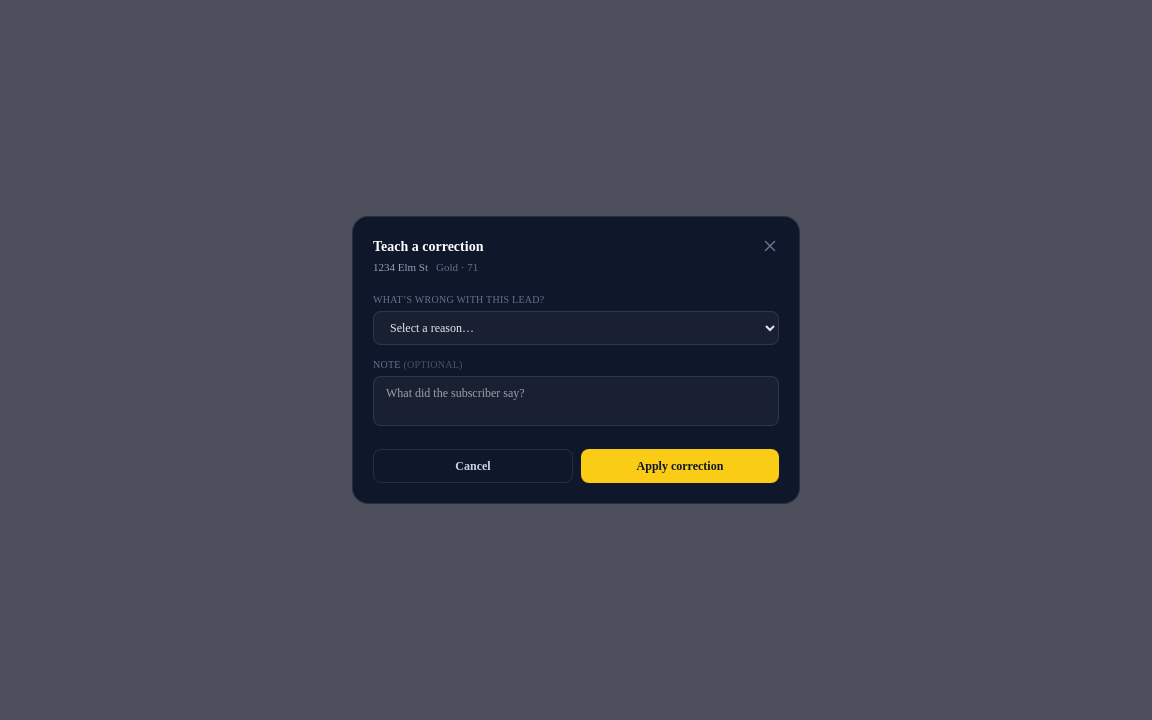
Test: TeachLeadModal › shows signal picker only for wrong_distress
Check: the field labelled "which signal" is not shown
Select "A distress signal is wrong" in the dropdown labelled "What’s wrong with this lead?" at [576, 328], box [373, 311, 779, 345]
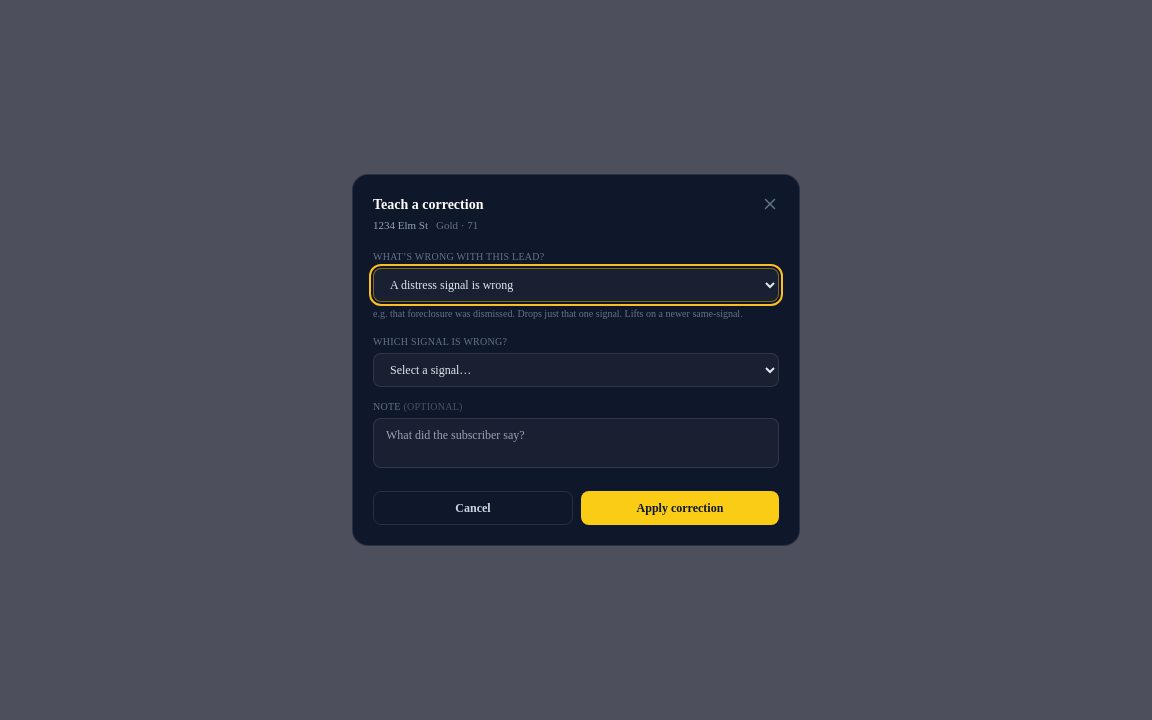
Check: the dropdown labelled "Which signal is wrong?" is shown, box [373, 353, 779, 387]
